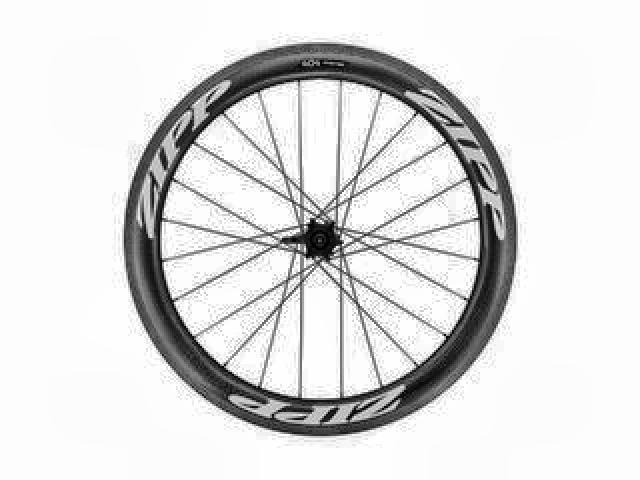wheel: (121, 40, 522, 441)
